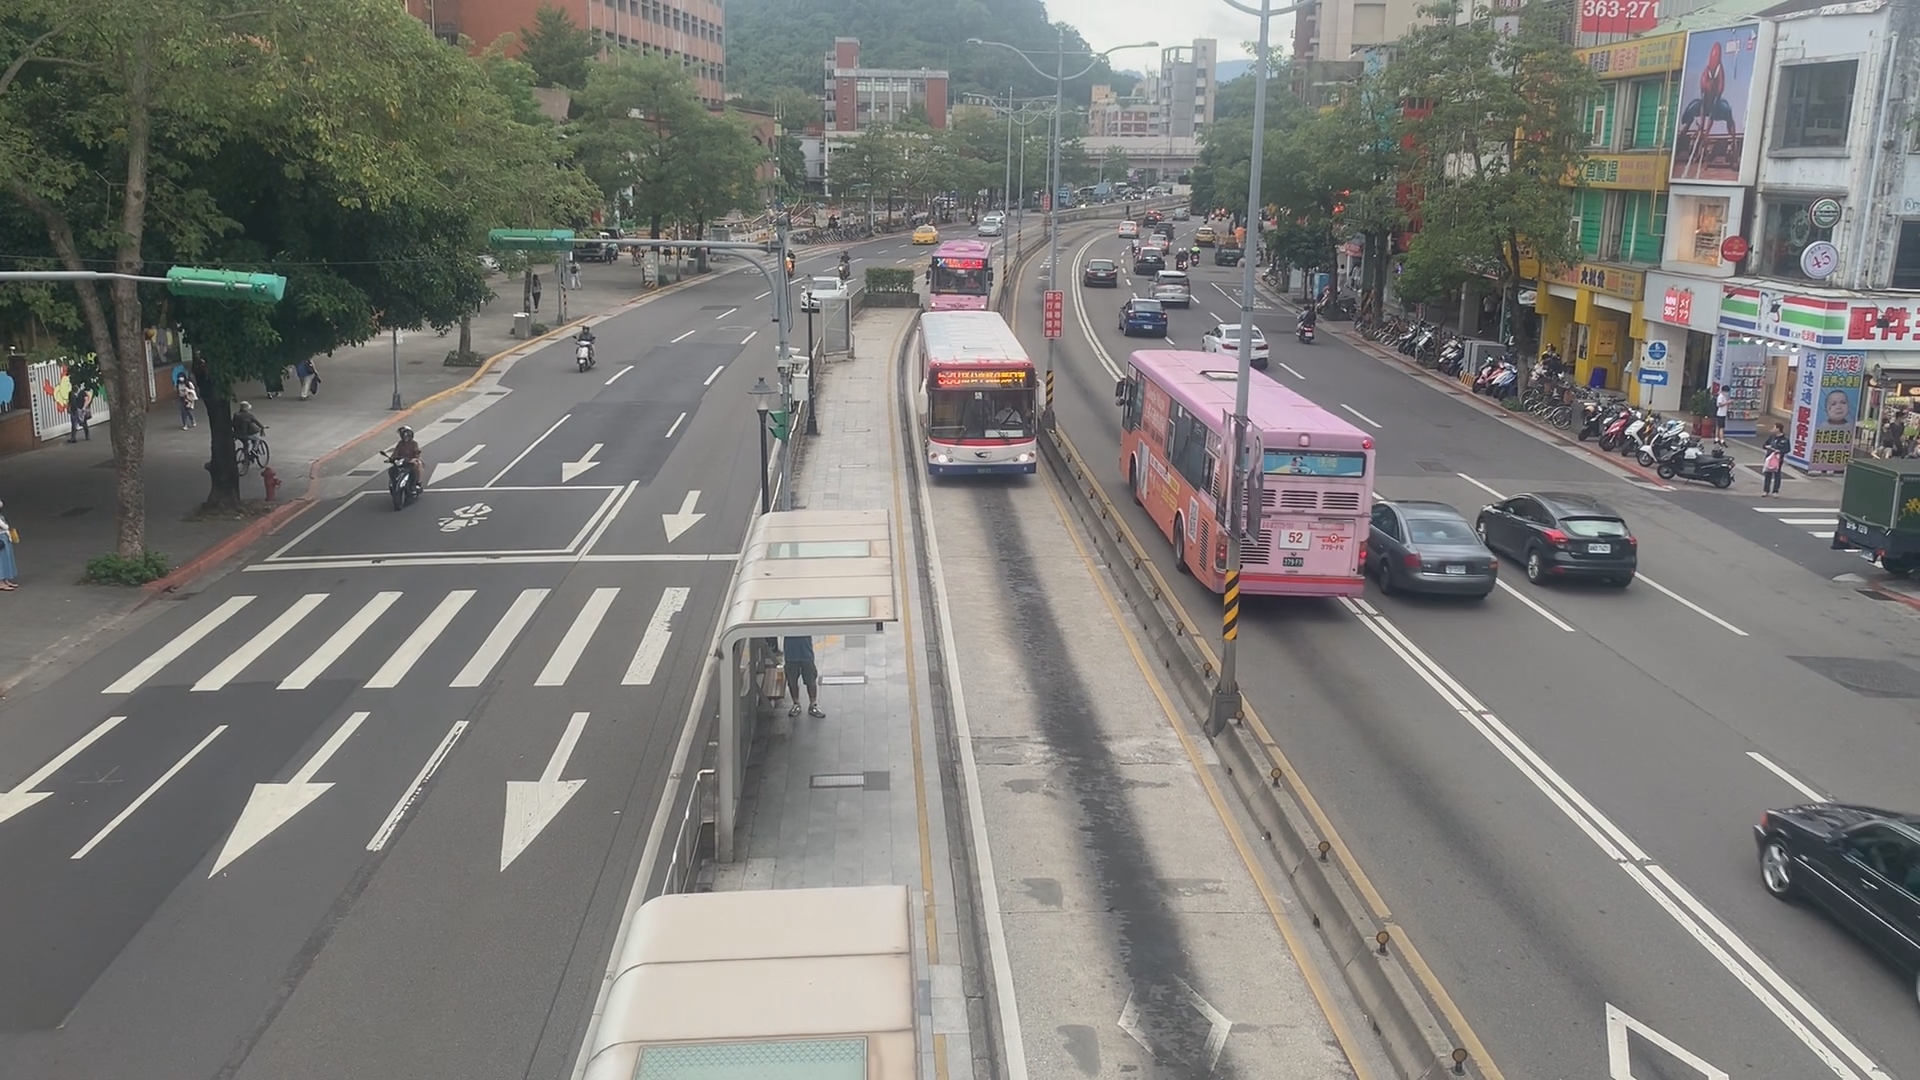Bus: (1108, 348, 1381, 607), (901, 313, 1048, 473), (924, 239, 1001, 331)
Business Passenger Car: (909, 222, 945, 253)
Motorcycle: (380, 418, 422, 505), (567, 316, 605, 375), (1296, 298, 1316, 340)
Private Passenger Car: (1749, 793, 1920, 1000), (1476, 483, 1638, 582), (1360, 491, 1489, 609), (1205, 320, 1269, 367), (1120, 294, 1168, 340), (1151, 266, 1197, 309), (803, 273, 845, 314), (1083, 256, 1118, 289), (1134, 247, 1164, 278), (978, 216, 1002, 240), (1114, 216, 1138, 236)
